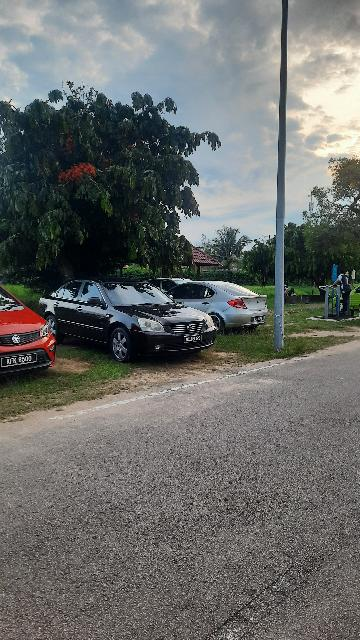License_Plate: (3, 354, 47, 371), (185, 334, 206, 344), (252, 316, 267, 324)
car: (40, 278, 219, 363), (1, 284, 57, 386), (171, 277, 269, 334)
